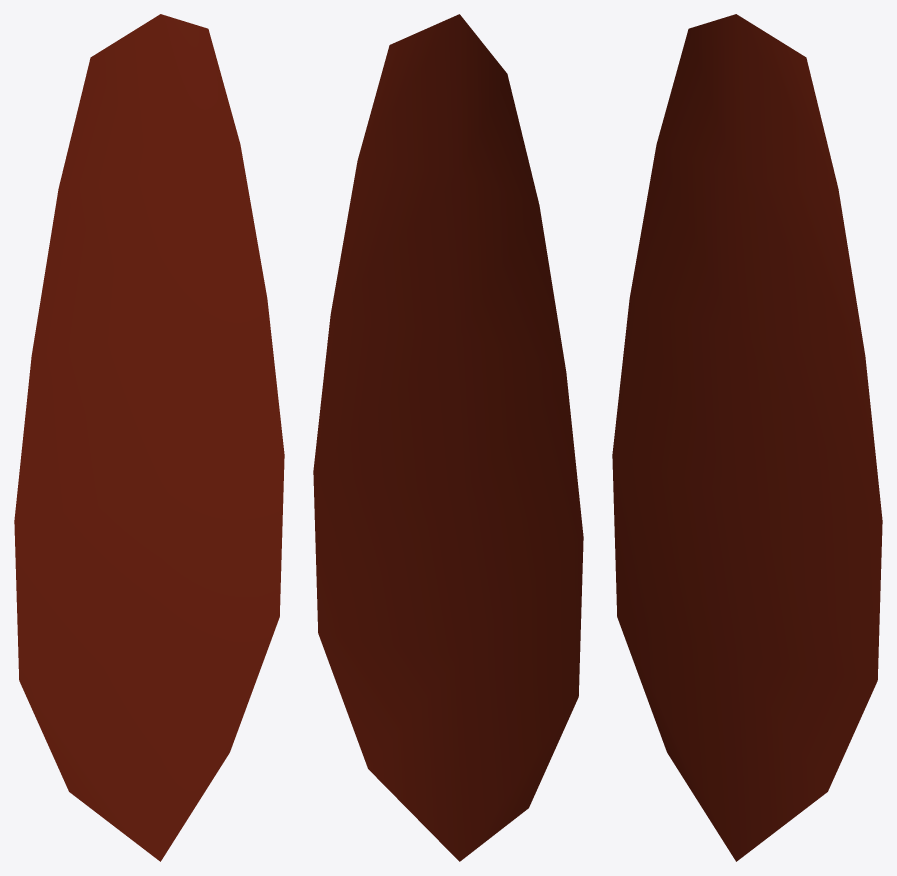
Rendered from pheasant_feather_flight_tertiary_017.obj.
The picture shows the model from 3 angles, left to right: view 1: azimuth 30°, elevation 25°; view 2: azimuth 150°, elevation 25°; view 3: azimuth 330°, elevation 25°; orthographic projection.
Parts seen in each view (by area): view 1: feather_flight_tertiary_017; view 2: feather_flight_tertiary_017; view 3: feather_flight_tertiary_017.
Part boxes in pixels (x1,y1,x2,y2): feather_flight_tertiary_017: (14, 14, 284, 861); feather_flight_tertiary_017: (313, 14, 583, 861); feather_flight_tertiary_017: (612, 14, 882, 861).
Size of the model in its own units: 0.00887 by 0.0266 by 0.000634.
